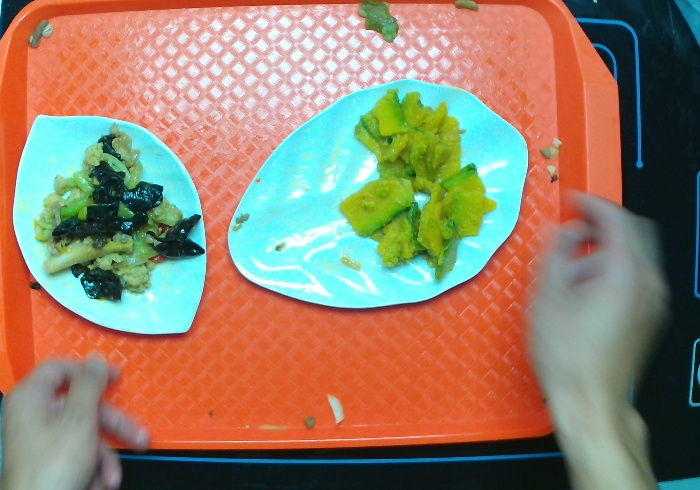RJxy-Bai_Ye_Pan: (226, 75, 533, 310)
RJxy-Da_Du_Pan: (11, 110, 213, 339)
